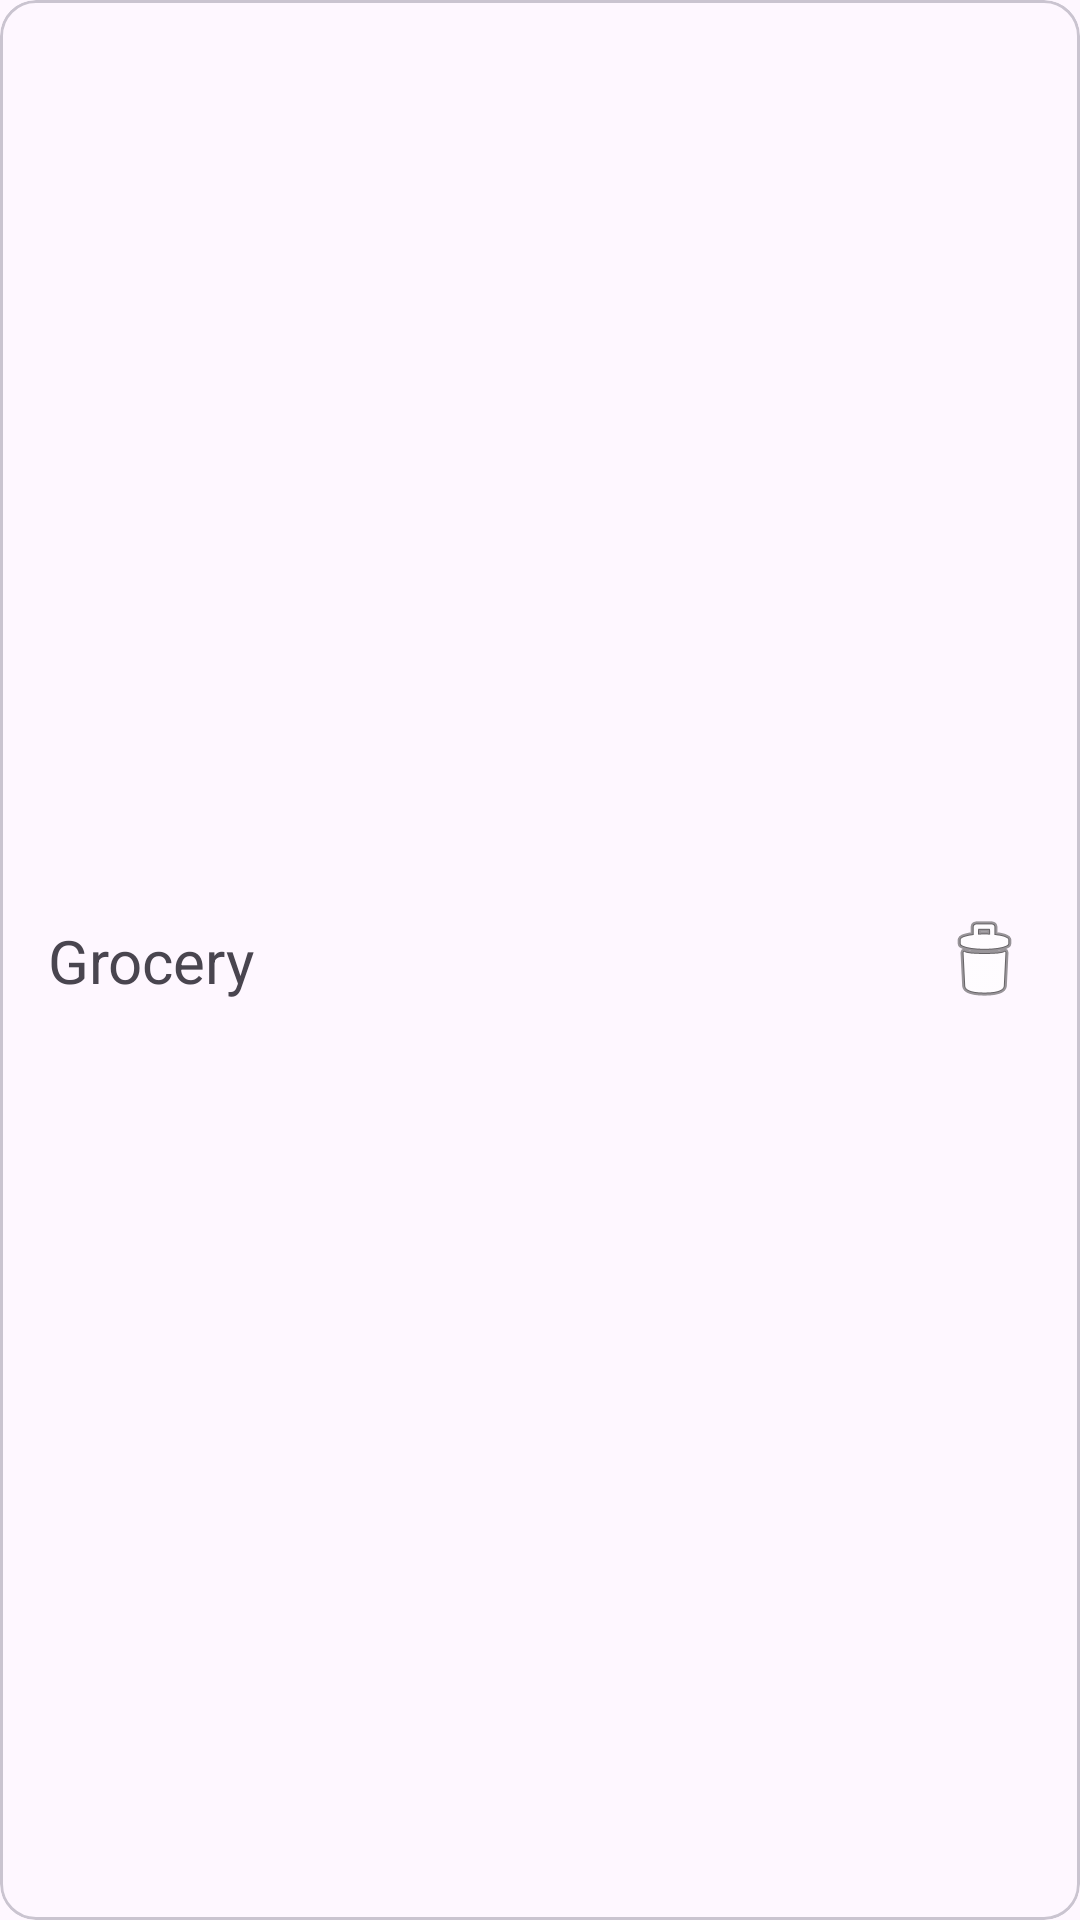

Screen size 1080 × 1920. Icon name, then its box in pixels as box(x1, y1, x2, y2):
delete: box(957, 921, 1012, 996)
